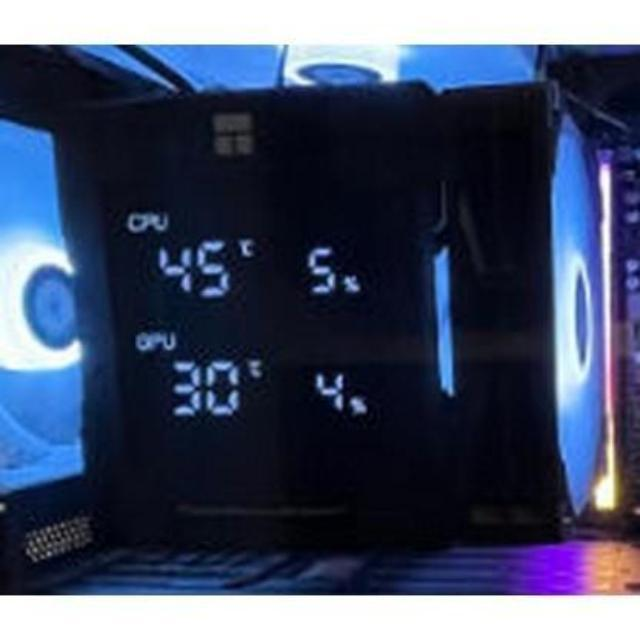CPU_Fan: (78, 83, 608, 546)
